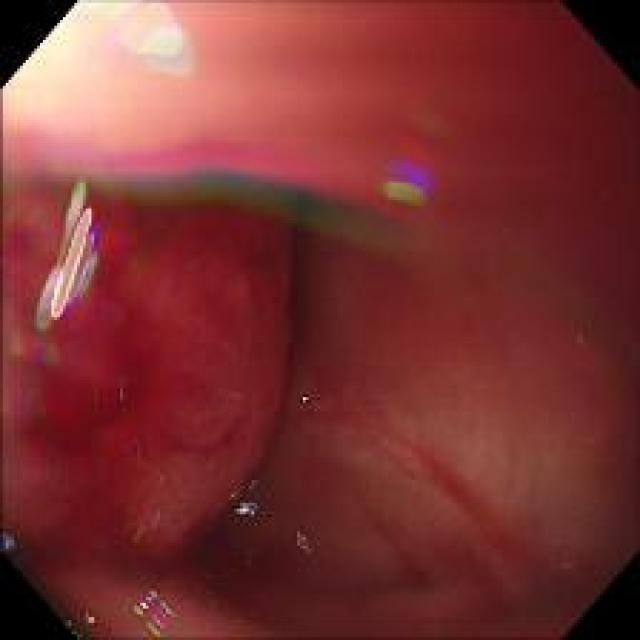color misalignment: (29, 126, 465, 238), (90, 375, 164, 545), (40, 185, 95, 334), (109, 8, 202, 81), (378, 138, 446, 210), (125, 585, 182, 636), (6, 328, 64, 370), (222, 471, 264, 520), (291, 524, 316, 561), (192, 582, 222, 612), (236, 546, 256, 571), (1, 525, 16, 558)
saturation: (15, 8, 151, 98)
specularity: (82, 612, 98, 624), (299, 394, 309, 405)
